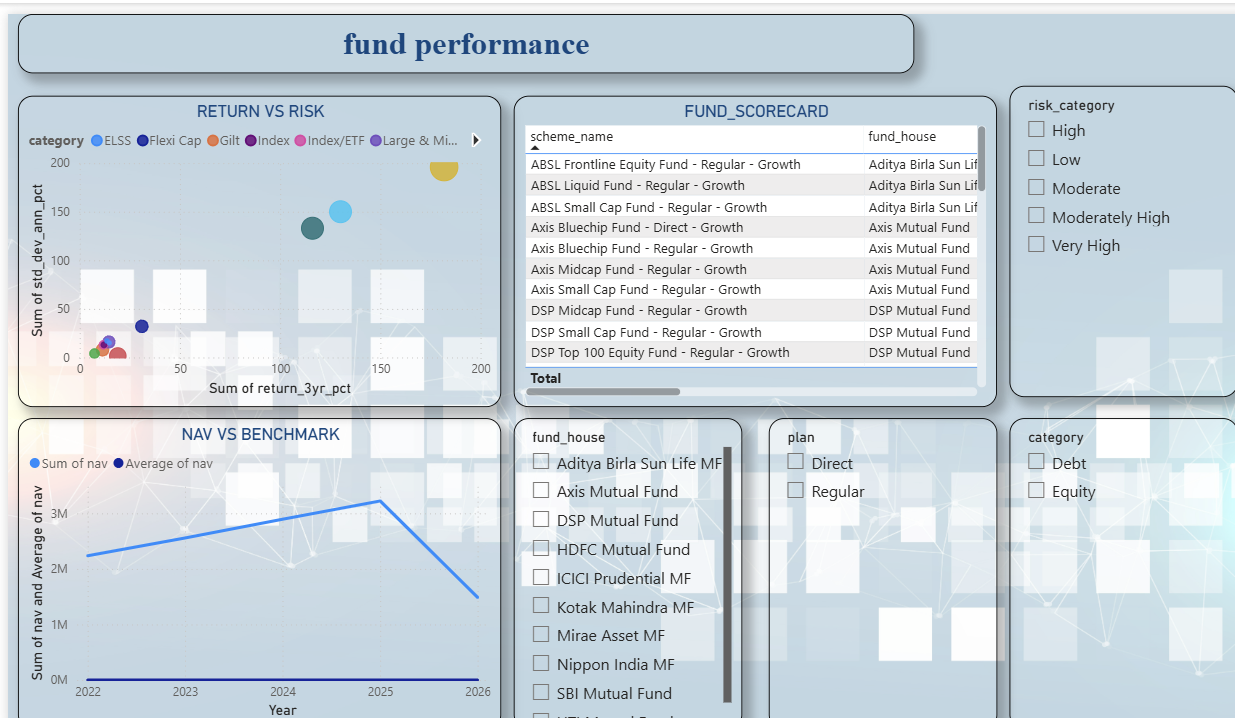

This screenshot's page, from the dashboard's own definition file:
{"tool":"powerbi","page":{"name":"Page 2","canvas":[1280,720],"ordinal":1},"visuals":[{"type":"textbox","box":[10.1,0,902.4,59.7],"z":0},{"type":"scatterChart","title":"RETURN VS RISK","fields":{"X":["Sum(07_scheme_performance_cleaned.return_3yr_pct)"],"Y":["Sum(07_scheme_performance_cleaned.std_dev_ann_pct)"],"Series":["07_scheme_performance_cleaned.category"],"Size":["Sum(07_scheme_performance_cleaned.aum_crore)"]},"box":[10.1,82.2,486.7,313.2],"z":1},{"type":"tableEx","title":"FUND_SCORECARD","fields":{"Values":["01_fund_master.scheme_name","01_fund_master.fund_house","01_fund_master.category","Sum(07_scheme_performance_cleaned.return_3yr_pct)","Sum(07_scheme_performance_cleaned.sharpe_ratio)","Sum(07_scheme_performance_cleaned.alpha)","Sum(01_fund_master.expense_ratio_pct)","Sum(07_scheme_performance_cleaned.max_drawdown_pct)","07_scheme_performance_cleaned.Fund Score"]},"box":[508.9,82.2,486.7,313.3],"z":2},{"type":"lineChart","title":"NAV VS BENCHMARK","fields":{"Category":["02_nav_history_cleaned.date.Variation.Date Hierarchy.Year"],"Y":["Sum(02_nav_history_cleaned.nav)1","Avg(02_nav_history_cleaned.nav)"]},"box":[10,406.7,486.7,313.3],"z":3},{"type":"slicer","title":"NAV VS BENCHMARK","fields":{"Values":["01_fund_master.fund_house"]},"box":[508.9,406.7,230,313.3],"z":4},{"type":"slicer","title":"NAV VS BENCHMARK","fields":{"Values":["01_fund_master.plan"]},"box":[765.6,406.7,230,313.3],"z":5},{"type":"slicer","title":"NAV VS BENCHMARK","fields":{"Values":["01_fund_master.category"]},"box":[1007.8,406.7,230,313.3],"z":6},{"type":"slicer","title":"NAV VS BENCHMARK","fields":{"Values":["01_fund_master.risk_category"]},"box":[1007.8,72.2,230,313.3],"z":7}]}

Visuals, with their boxes on the page's 1280x720 design canvas (x1, y1, x2, y2). These are canvas units, not pixel positions in the 1235x718 screenshot, which may show the page scaled, cropped or inside an application window:
textbox: 10/0/912/60
"RETURN VS RISK" scatterChart: 10/82/497/395
"FUND_SCORECARD" tableEx: 509/82/996/396
"NAV VS BENCHMARK" lineChart: 10/407/497/720
"NAV VS BENCHMARK" slicer: 509/407/739/720
"NAV VS BENCHMARK" slicer: 766/407/996/720
"NAV VS BENCHMARK" slicer: 1008/407/1238/720
"NAV VS BENCHMARK" slicer: 1008/72/1238/386
